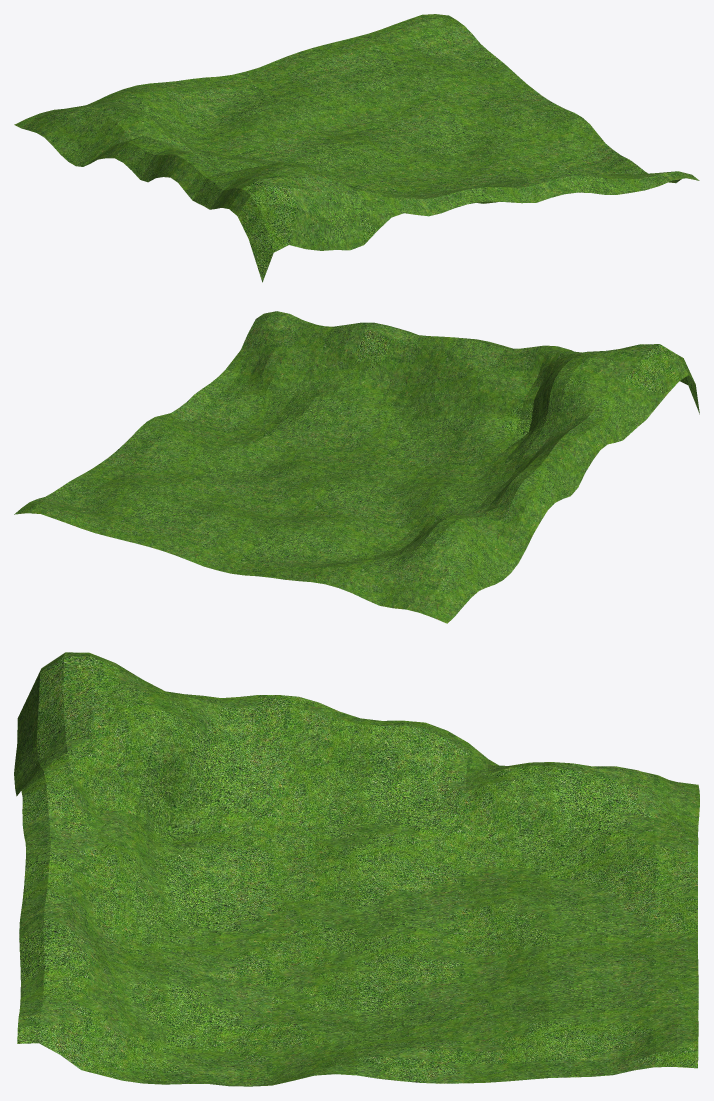
The model's file is tera.obj.
3 views of the same model, one above another, from view 1: azimuth 30°, elevation 25°; view 2: azimuth 150°, elevation 25°; view 3: azimuth 270°, elevation 25° (orthographic). The views are drawn at different scales.
Visible parts, largest first — view 1: Plane; view 2: Plane; view 3: Plane.
Part boxes in pixels (x1,y1,x2,y2): Plane: [14, 14, 699, 282]; Plane: [14, 311, 699, 623]; Plane: [14, 652, 699, 1086].
Bounding box in the file's own units: 16.4 × 4.33 × 16.15.
